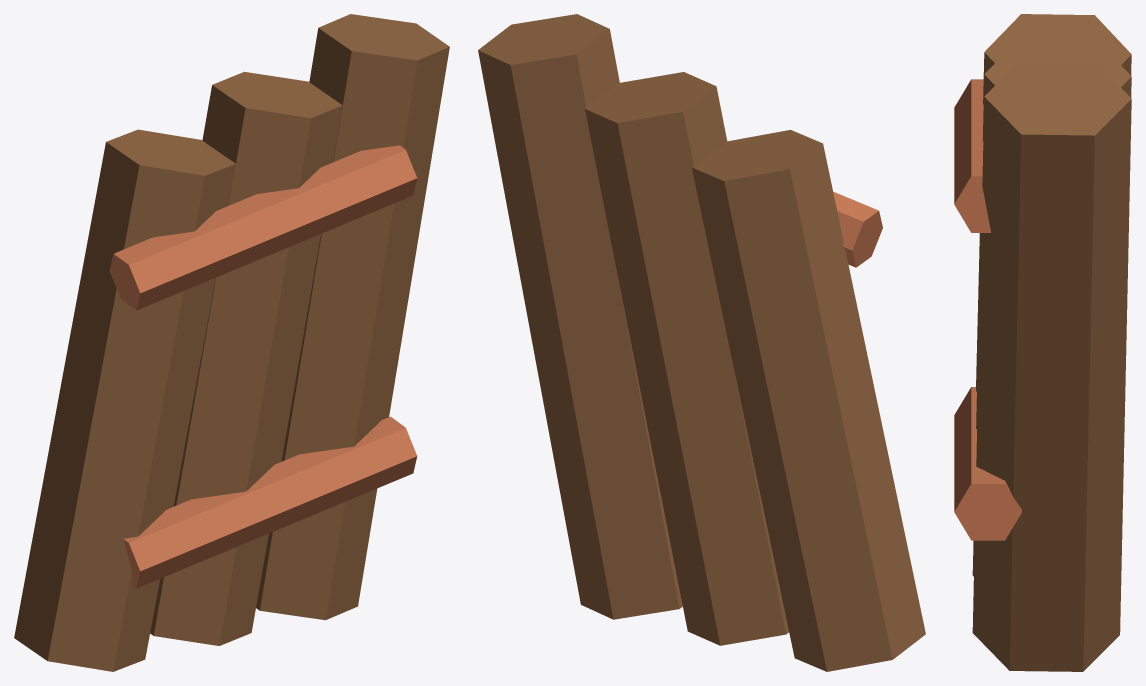
File: timber_pack.glb
3 views of the same model, side by side, from view 1: azimuth 30°, elevation 25°; view 2: azimuth 150°, elevation 25°; view 3: azimuth 270°, elevation 25° (orthographic). The views are drawn at different scales.
Parts seen in each view (by area): view 1: timber_pack; view 2: timber_pack; view 3: timber_pack.
Boxes of the visible parts, x1,y1,x2,y2 form: timber_pack: (14,14,449,671); timber_pack: (478,14,925,671); timber_pack: (954,14,1131,671).
Bounding box in the file's own units: 0.5373 × 0.6977 × 0.183.
